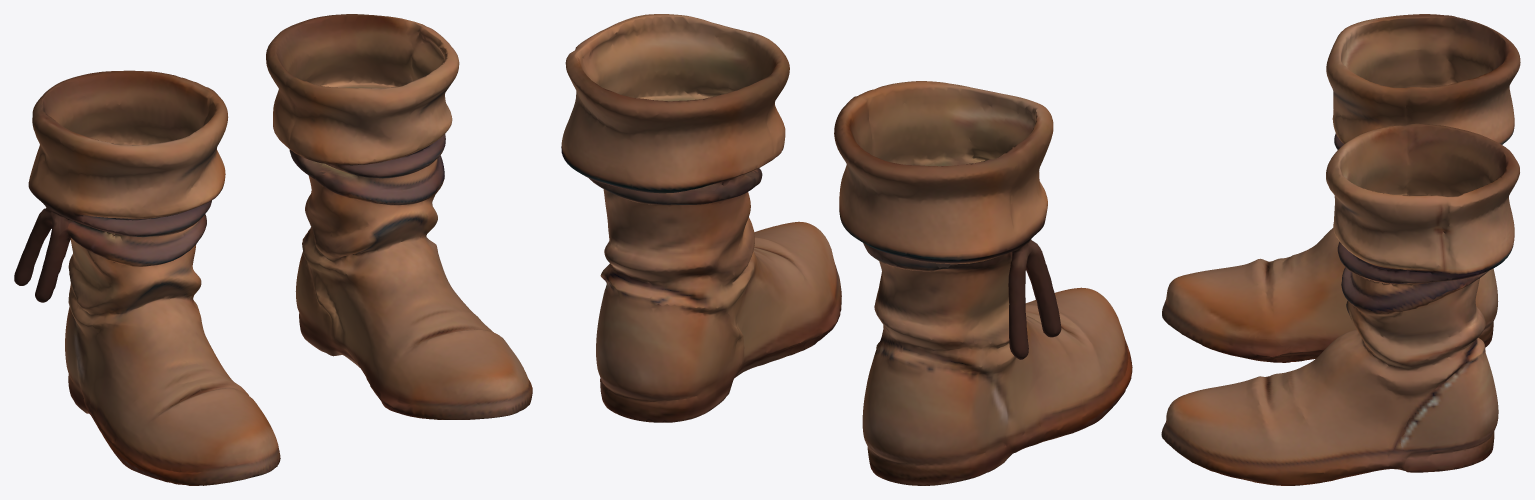
File: bota-arqueiro.glb
3 renders of one model, left to right at view 1: azimuth 30°, elevation 25°; view 2: azimuth 150°, elevation 25°; view 3: azimuth 270°, elevation 25°, orthographic. The views are drawn at different scales.
Parts seen in each view (by area): view 1: tripo_node_f950e674-797e-4c8a-a71c-9a79cf78cb66.001; view 2: tripo_node_f950e674-797e-4c8a-a71c-9a79cf78cb66.001; view 3: tripo_node_f950e674-797e-4c8a-a71c-9a79cf78cb66.001.
Part boxes in pixels (left/top/right/bottom): tripo_node_f950e674-797e-4c8a-a71c-9a79cf78cb66.001: left=14, top=14, right=532, bottom=485; tripo_node_f950e674-797e-4c8a-a71c-9a79cf78cb66.001: left=561, top=14, right=1132, bottom=485; tripo_node_f950e674-797e-4c8a-a71c-9a79cf78cb66.001: left=1161, top=14, right=1520, bottom=485.
Bounding box in the file's own units: 0.1819 × 0.1246 × 0.14.
Materials: 1 (1 with a texture image).
